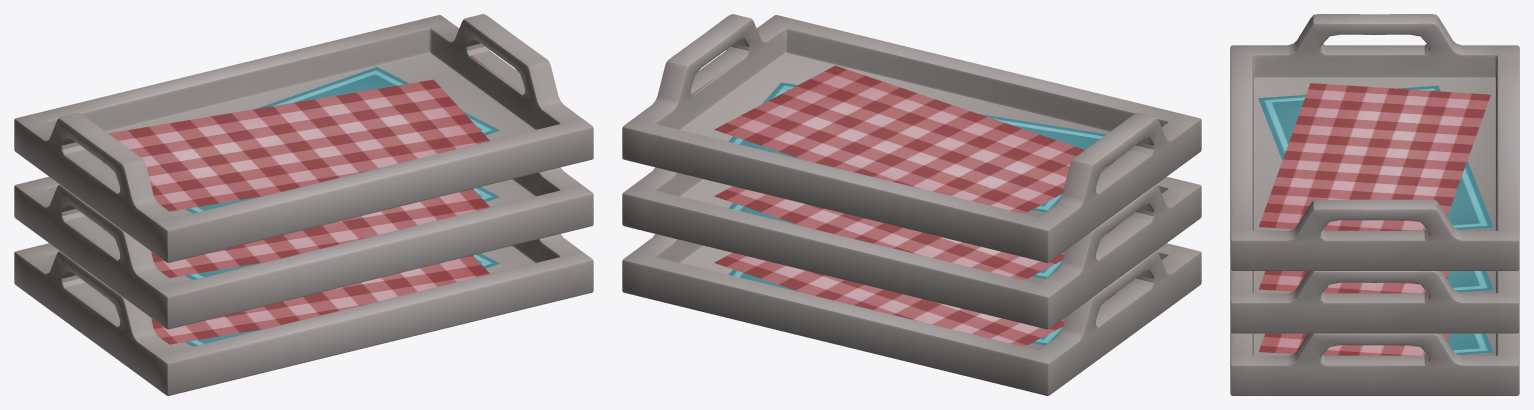
File: TrashBoxTray_02.fbx
3 renders of one model, left to right at view 1: azimuth 30°, elevation 25°; view 2: azimuth 150°, elevation 25°; view 3: azimuth 270°, elevation 25°, orthographic. The views are drawn at different scales.
Parts seen in each view (by area): view 1: TrashBoxTray_01; view 2: TrashBoxTray_01; view 3: TrashBoxTray_01.
Part boxes in pixels (x1,y1,x2,y2): TrashBoxTray_01: [14, 14, 593, 395]; TrashBoxTray_01: [622, 14, 1201, 395]; TrashBoxTray_01: [1230, 14, 1519, 395].
Size of the model in its own units: 64.8 by 29.01 by 40.47.
